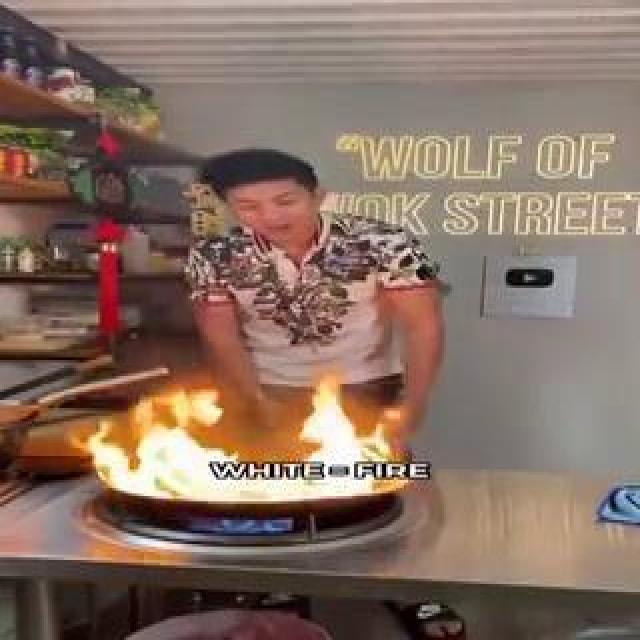Fire: (230, 146, 338, 432)
